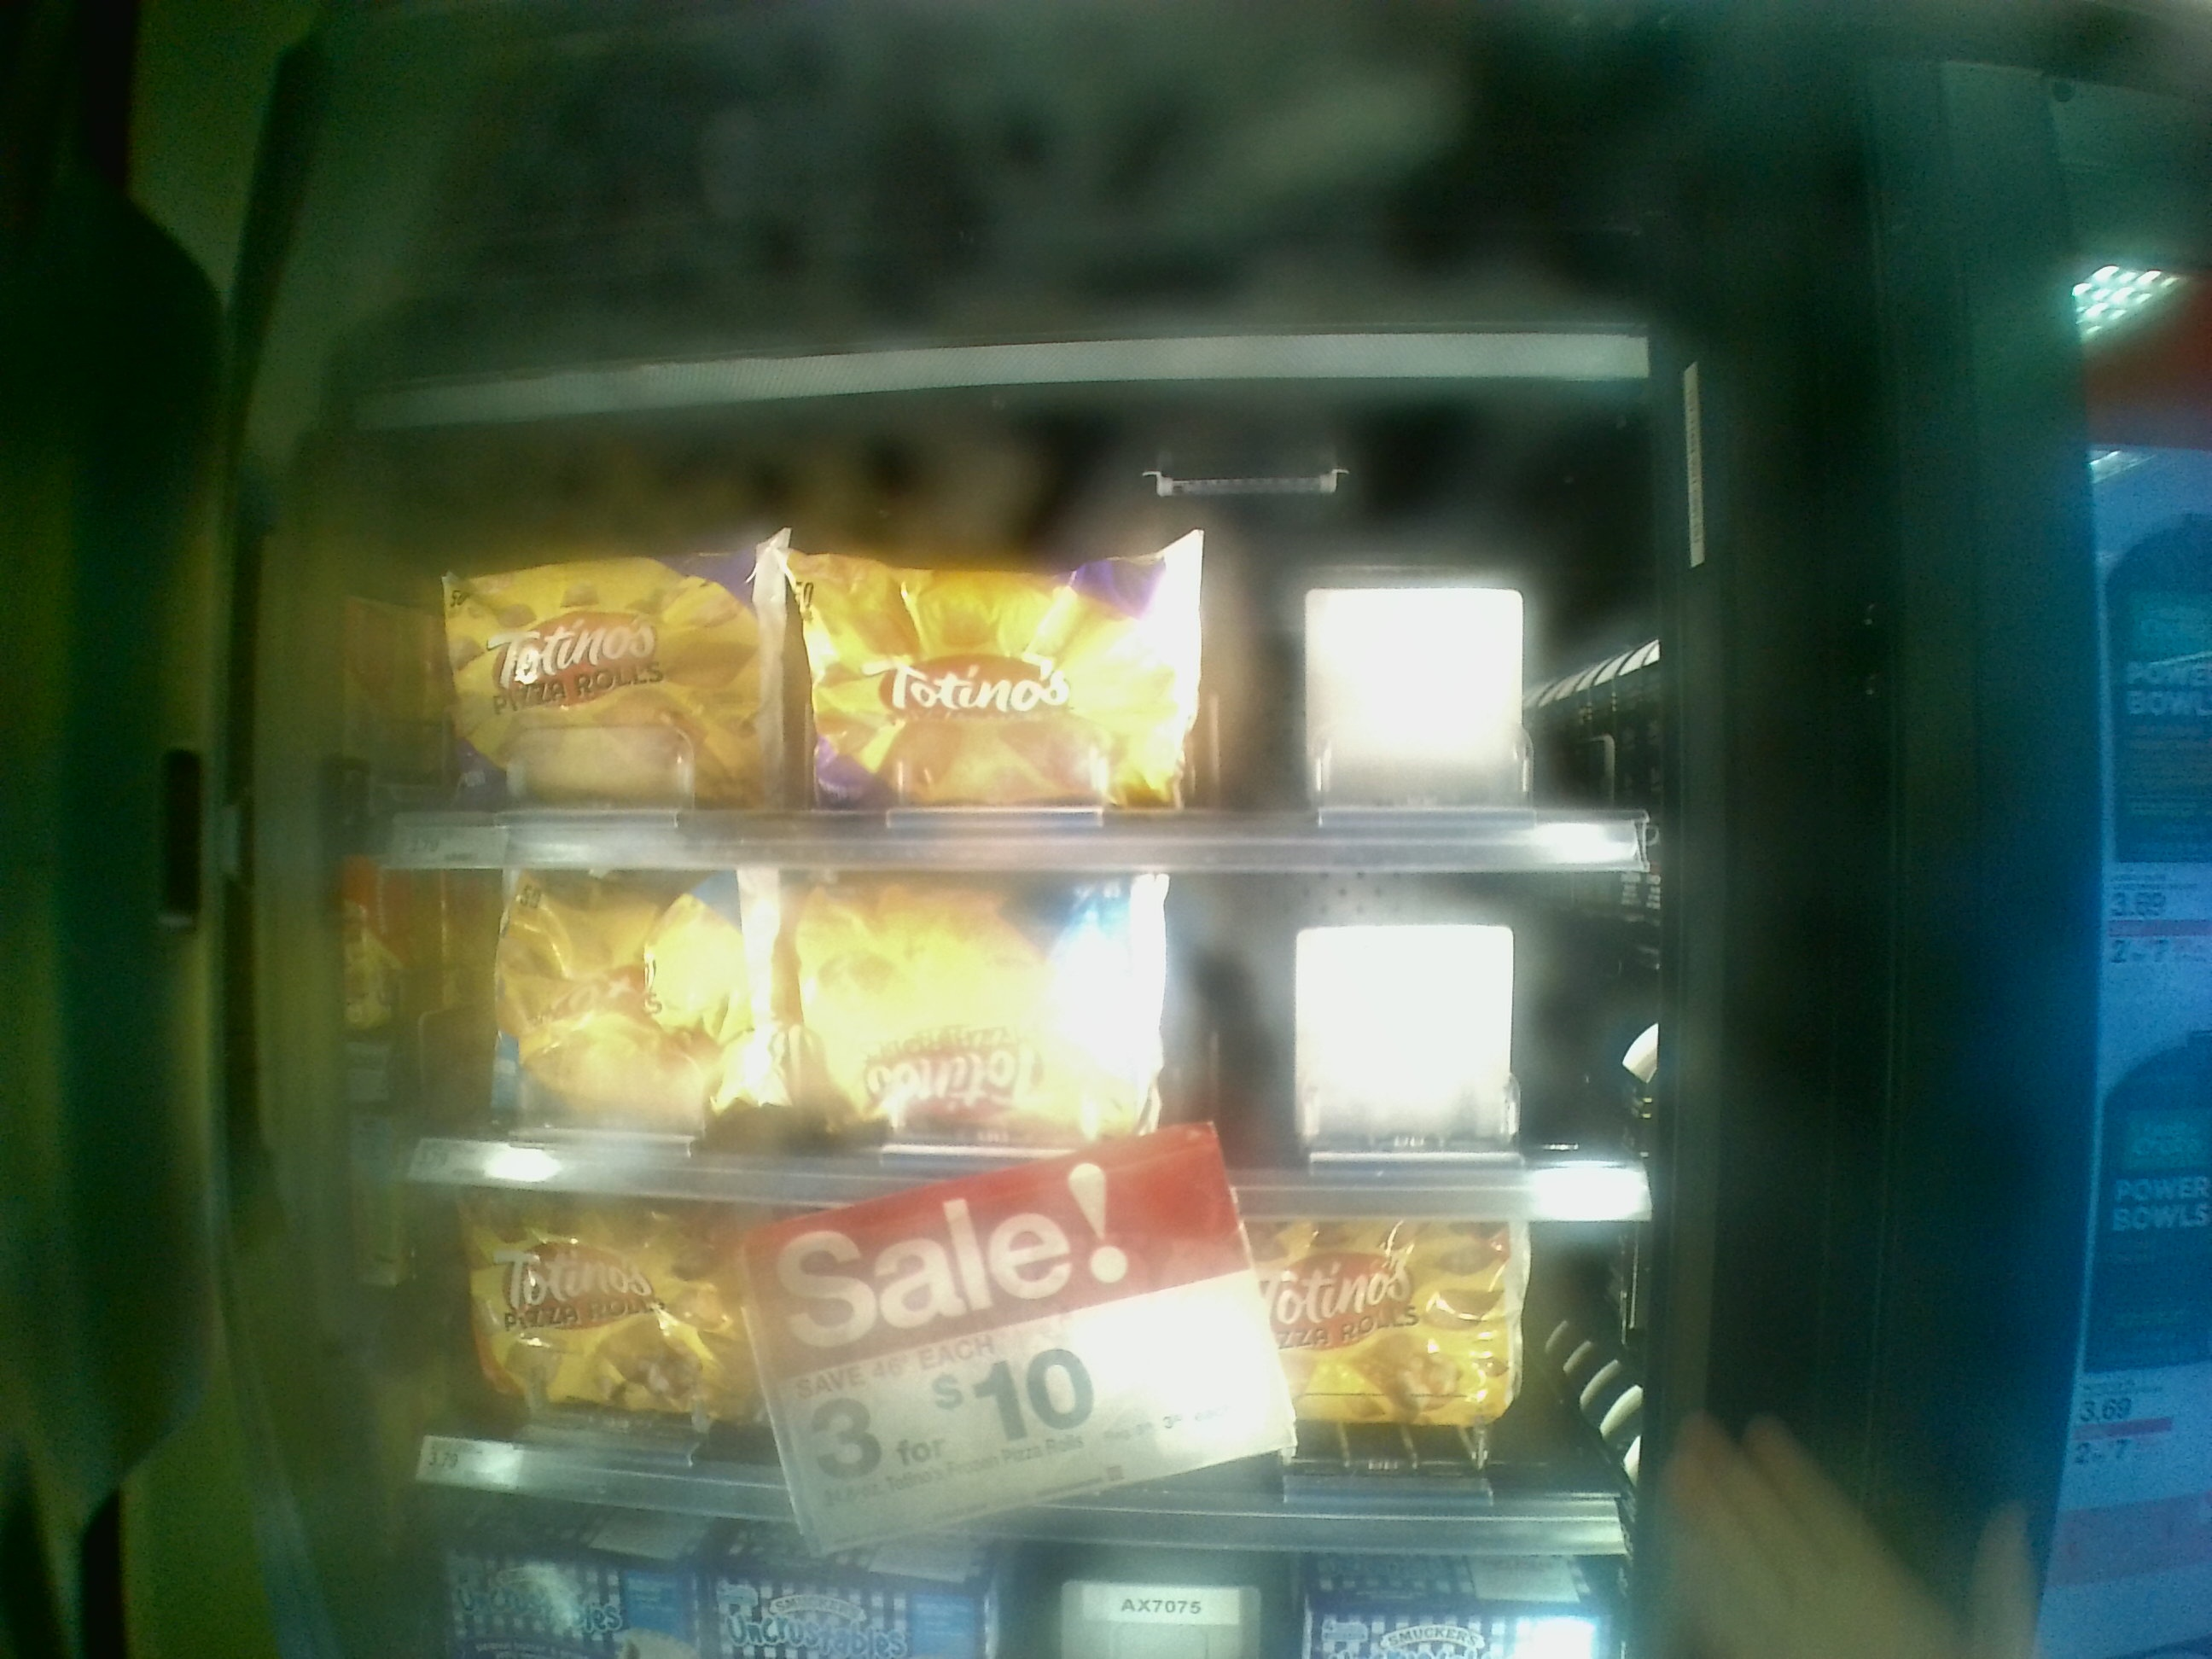shelf: (322, 410, 1662, 864), (301, 1169, 1651, 1561), (324, 845, 1651, 1229)
